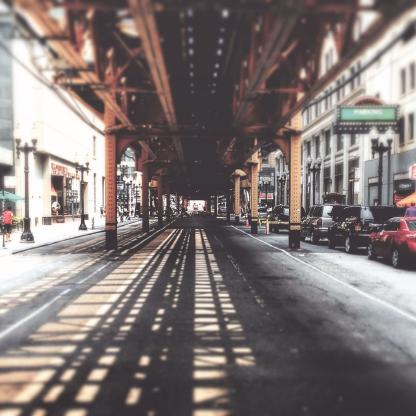Car: (329, 206, 406, 255), (369, 215, 416, 272), (302, 202, 347, 245), (268, 206, 309, 236)
